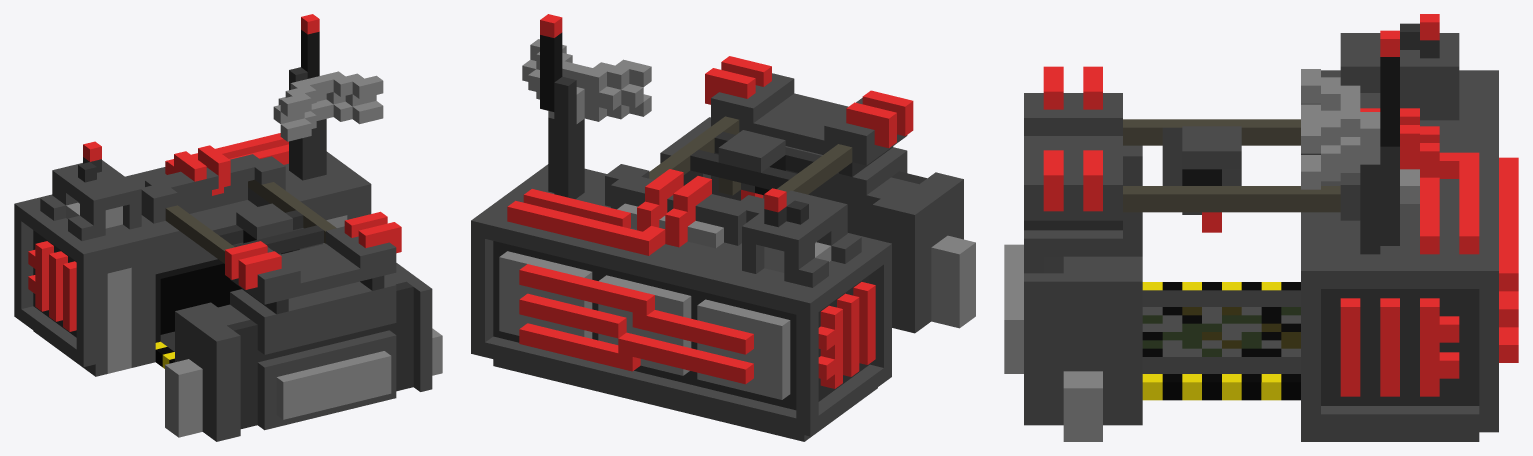
The model's file is Factory.obj.
3 views of the same model, side by side, from view 1: azimuth 30°, elevation 25°; view 2: azimuth 150°, elevation 25°; view 3: azimuth 270°, elevation 25° (orthographic). The views are drawn at different scales.
Bounding box in the file's own units: 2.5 × 2.2 × 2.6.
